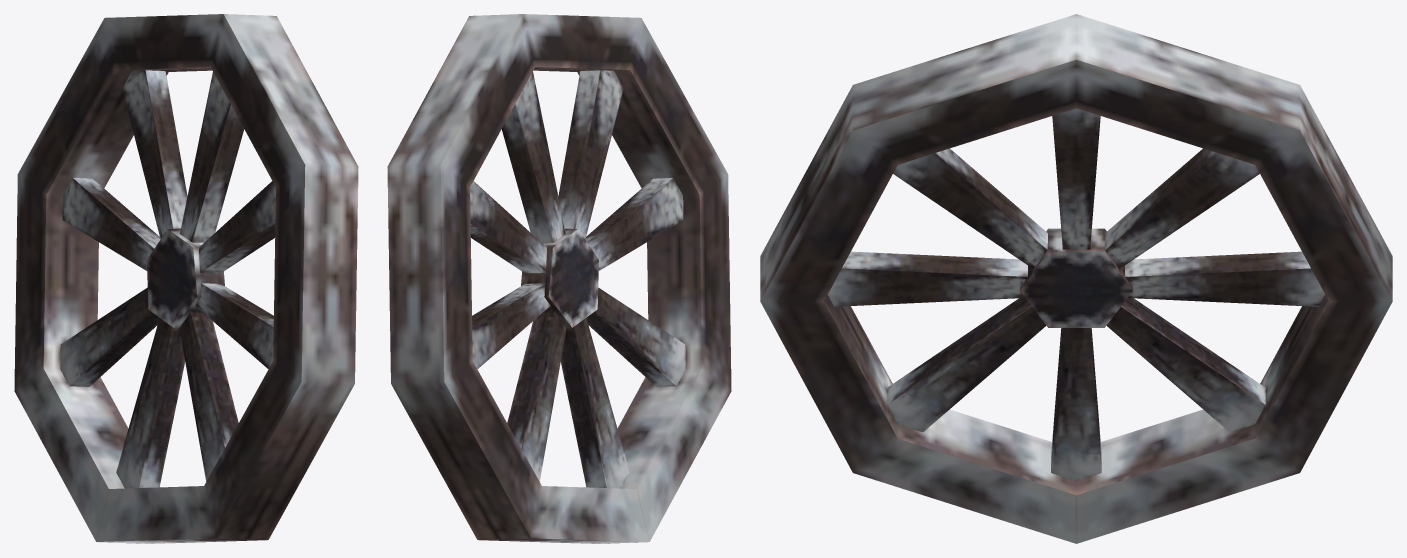
Rendered from Item_08.FBX.
3 renders of one model, left to right at view 1: azimuth 30°, elevation 25°; view 2: azimuth 150°, elevation 25°; view 3: azimuth 270°, elevation 25°, orthographic. The views are drawn at different scales.
Visible parts, largest first — view 1: item_08; view 2: item_08; view 3: item_08.
Part boxes in pixels (x1=…): item_08: x1=14, y1=14, x2=358, y2=543; item_08: x1=387, y1=14, x2=731, y2=543; item_08: x1=760, y1=14, x2=1392, y2=543.
Bounding box in the file's own units: 37.94 × 103 × 103.
